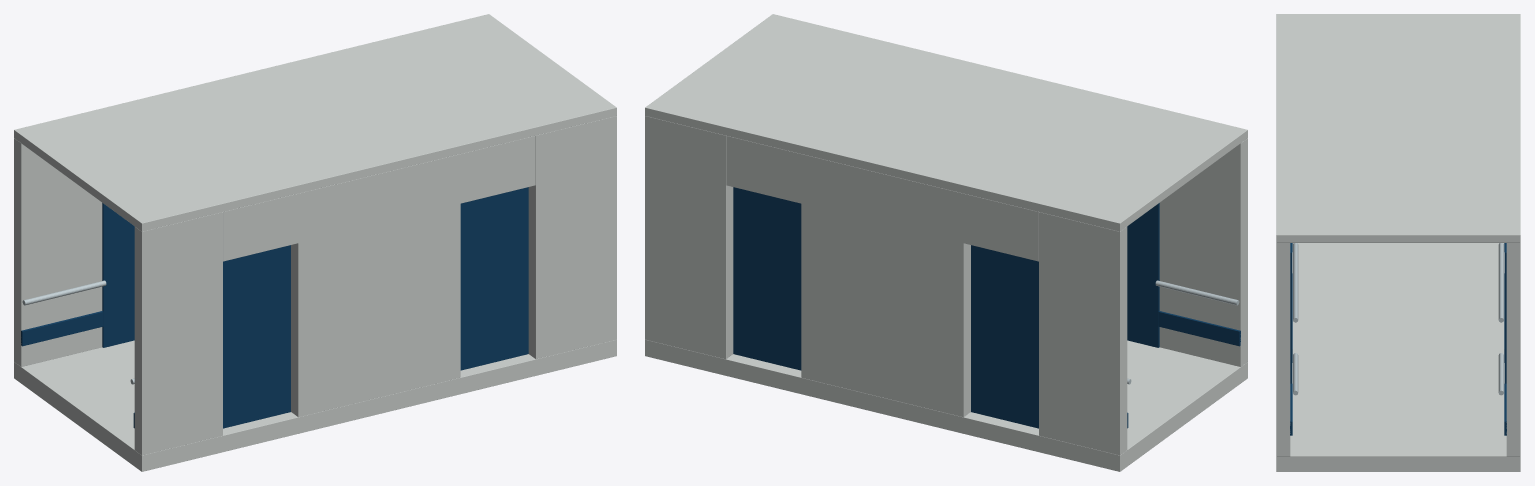
The picture shows the model from 3 angles, left to right: view 1: azimuth 30°, elevation 25°; view 2: azimuth 150°, elevation 25°; view 3: azimuth 270°, elevation 25°; orthographic projection. The views are drawn at different scales.
Parts seen in each view (by area): view 1: SERVICE_Ceiling, WALL.001, WALL, WALL.002, FLOOR, WALL.003, ROOM_Door.001, ROOM_Door, ROOM_Door.002, ROOM_Header.001, ROOM_Header, PROTECTION.003; view 2: SERVICE_Ceiling, WALL.004, WALL.003, WALL.005, FLOOR, WALL, ROOM_Door.003, ROOM_Door.002, ROOM_Door, ROOM_Header.003, ROOM_Header.002, PROTECTION; view 3: SERVICE_Ceiling, FLOOR, WALL.002, WALL.005, HANDRAIL.001, HANDRAIL.004, ROOM_Door.001, ROOM_Door.003.
Boxes of the visible parts, <box> form: SERVICE_Ceiling: <box>14,14,616,231</box>; WALL.001: <box>291,154,460,417</box>; WALL: <box>134,212,222,455</box>; WALL.002: <box>528,116,616,359</box>; FLOOR: <box>14,339,616,471</box>; WALL.003: <box>14,138,102,366</box>; ROOM_Door.001: <box>460,187,528,370</box>; ROOM_Door: <box>223,245,290,428</box>; ROOM_Door.002: <box>102,203,134,347</box>; ROOM_Header.001: <box>460,135,535,203</box>; ROOM_Header: <box>223,193,298,261</box>; PROTECTION.003: <box>21,311,103,346</box>; SERVICE_Ceiling: <box>645,14,1247,231</box>; WALL.004: <box>801,154,970,417</box>; WALL.003: <box>1039,212,1127,455</box>; WALL.005: <box>645,116,733,359</box>; FLOOR: <box>645,339,1247,471</box>; WALL: <box>1159,138,1247,366</box>; ROOM_Door.003: <box>733,187,801,370</box>; ROOM_Door.002: <box>971,245,1038,428</box>; ROOM_Door: <box>1127,203,1159,347</box>; ROOM_Header.003: <box>726,135,801,203</box>; ROOM_Header.002: <box>963,193,1038,261</box>; PROTECTION: <box>1158,311,1240,346</box>; SERVICE_Ceiling: <box>1276,14,1520,242</box>; FLOOR: <box>1276,243,1520,471</box>; WALL.002: <box>1276,243,1290,456</box>; WALL.005: <box>1506,243,1520,456</box>; HANDRAIL.001: <box>1293,243,1298,322</box>; HANDRAIL.004: <box>1498,243,1503,322</box>; ROOM_Door.001: <box>1290,243,1292,383</box>; ROOM_Door.003: <box>1504,243,1506,383</box>.
Size of the model in its own units: 6 by 3 by 2.8.
